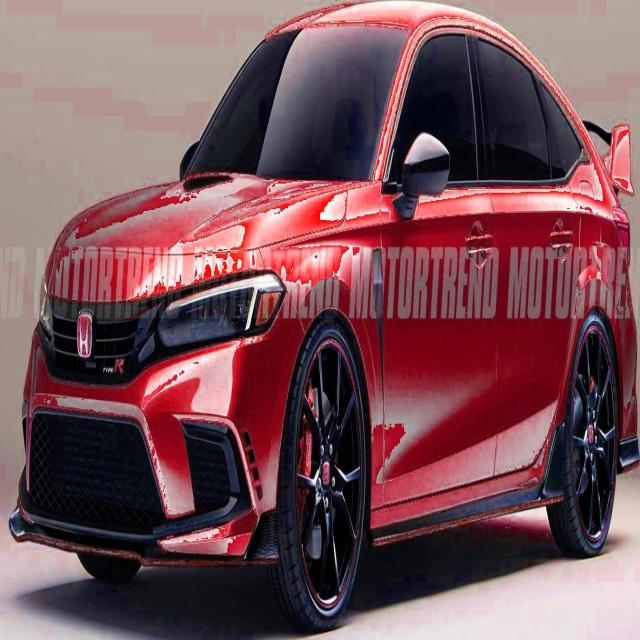maroon: (26, 0, 640, 617)
